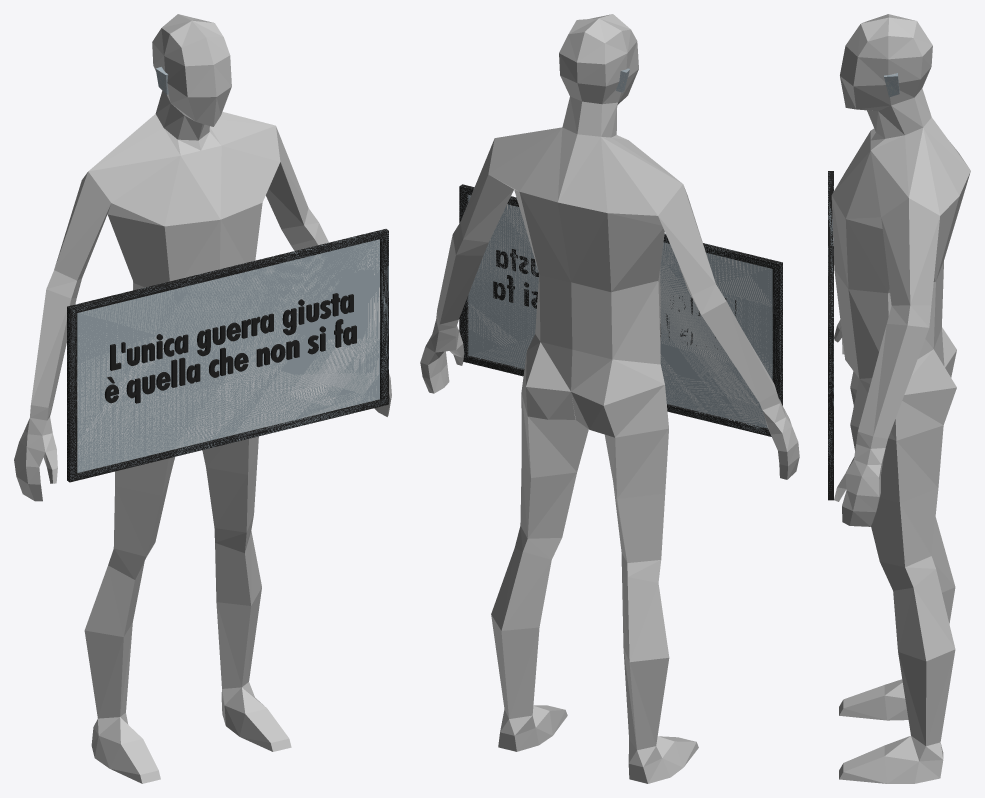
File: Guerra6.obj
3 views of the same model, side by side, from view 1: azimuth 30°, elevation 25°; view 2: azimuth 150°, elevation 25°; view 3: azimuth 270°, elevation 25° (orthographic).
Visible parts, largest first — view 1: Guerra3; view 2: Guerra3; view 3: Guerra3.
Part boxes in pixels (x1,y1,x2,y2): Guerra3: (14,14,391,783); Guerra3: (420,14,799,783); Guerra3: (828,14,970,783).
Bounding box in the file's own units: 0.7211 × 1.37 × 0.2446.
